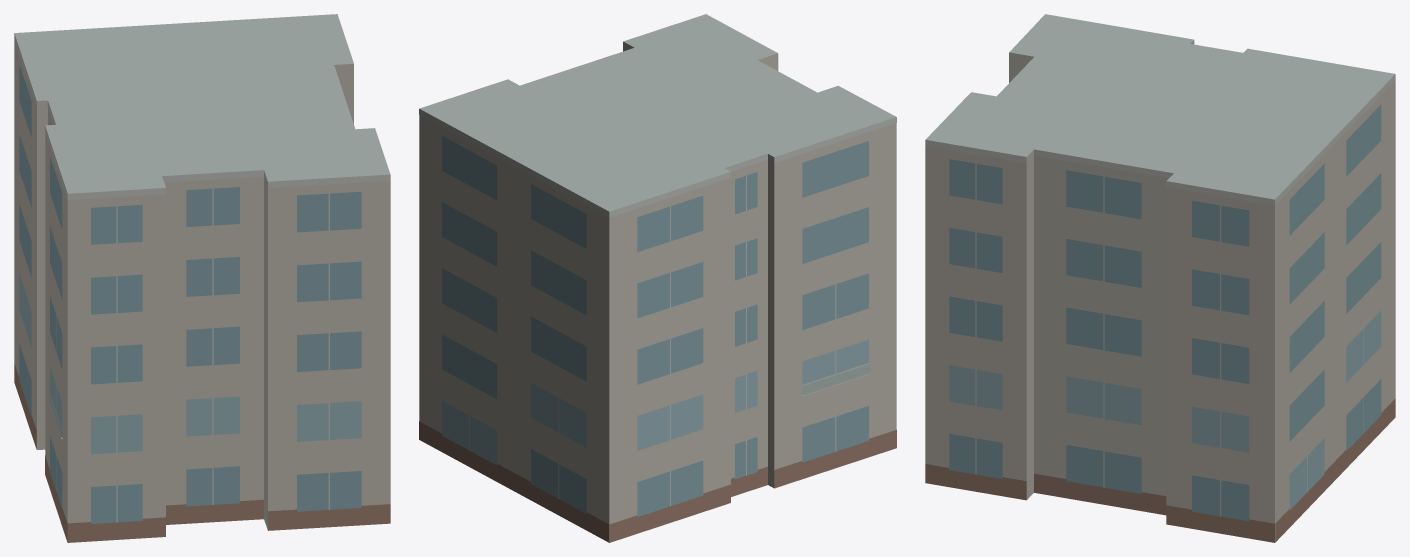
Rendered from survey-upis-32924862.glb.
The picture shows the model from 3 angles, left to right: view 1: azimuth 30°, elevation 25°; view 2: azimuth 150°, elevation 25°; view 3: azimuth 270°, elevation 25°; orthographic projection. The views are drawn at different scales.
Parts seen in each view (by area): view 1: survey-upis-32924862.tmp; view 2: survey-upis-32924862.tmp; view 3: survey-upis-32924862.tmp.
Boxes of the visible parts, bbox=[...] form: survey-upis-32924862.tmp: bbox=[14, 14, 390, 542]; survey-upis-32924862.tmp: bbox=[419, 14, 896, 542]; survey-upis-32924862.tmp: bbox=[925, 14, 1395, 542].
Size of the model in its own units: 15.66 by 13.5 by 16.77.
